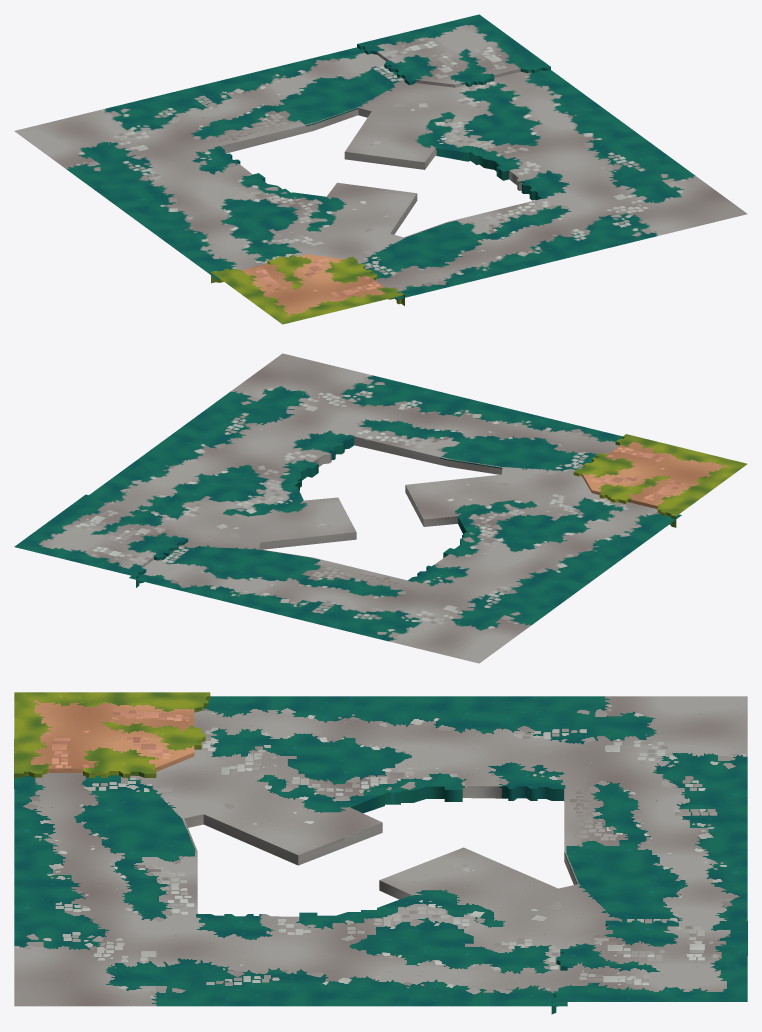
Rendered from Ground.fbx.
The picture shows the model from 3 angles, top to bottom: view 1: azimuth 30°, elevation 25°; view 2: azimuth 150°, elevation 25°; view 3: azimuth 270°, elevation 25°; orthographic projection. The views are drawn at different scales.
Parts seen in each view (by area): view 1: Ground_low; view 2: Ground_low; view 3: Ground_low.
Boxes of the visible parts, x1,y1,x2,y2 form: Ground_low: (14,14,747,324); Ground_low: (14,353,747,663); Ground_low: (14,692,747,1014).
Size of the model in its own units: 4000 by 98.67 by 4004.
